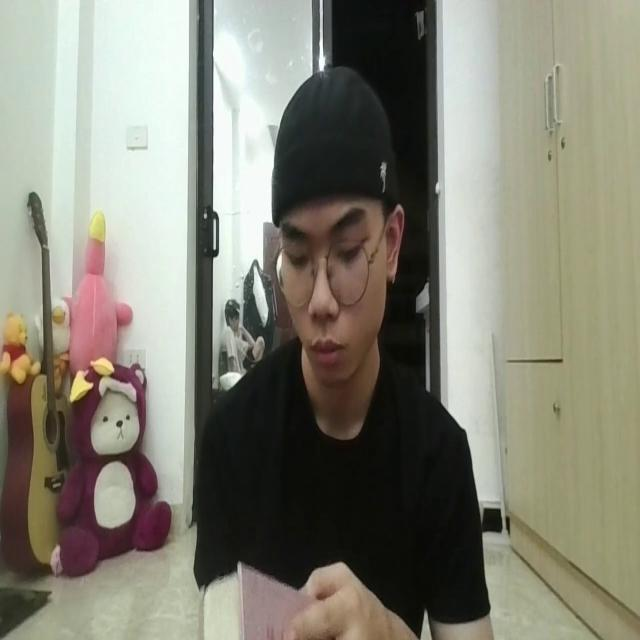phone: (195, 554, 330, 640)
student: (177, 64, 491, 640)
